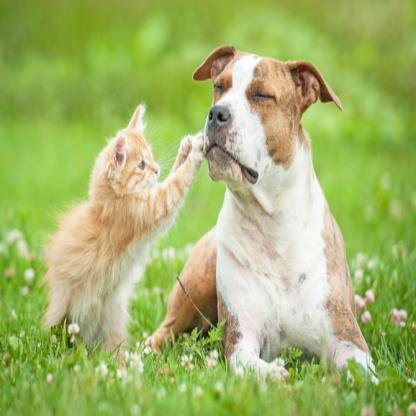cat: (92, 91, 186, 255)
dog: (191, 26, 348, 232)
